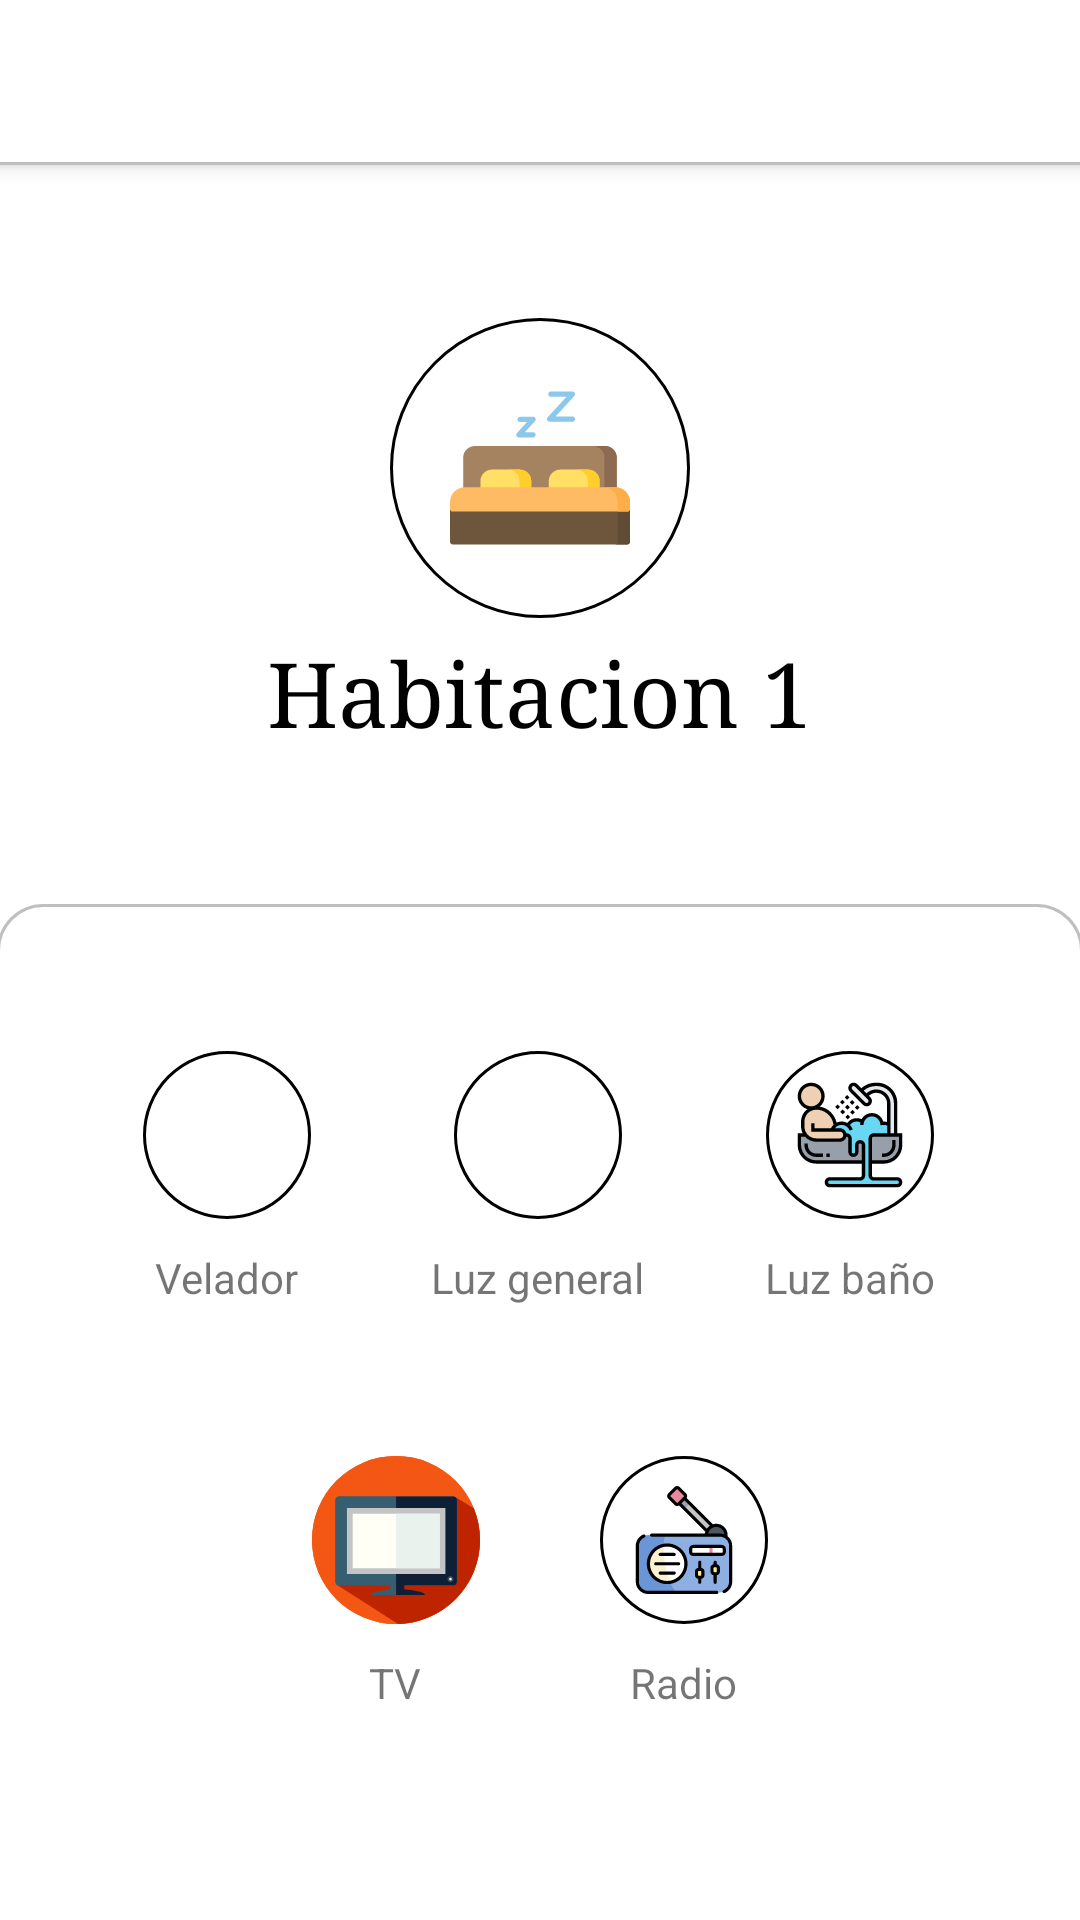

Point at icon controls on the screen. Image size 1080 × 1920, points as (x,y).
bathtub: (850,1135)
bed: (540,468)
monitor: (396,1540)
